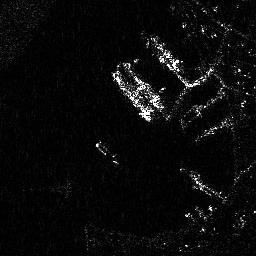ship: (120, 60, 164, 112), (111, 69, 154, 122), (144, 30, 185, 74), (94, 137, 120, 165)
